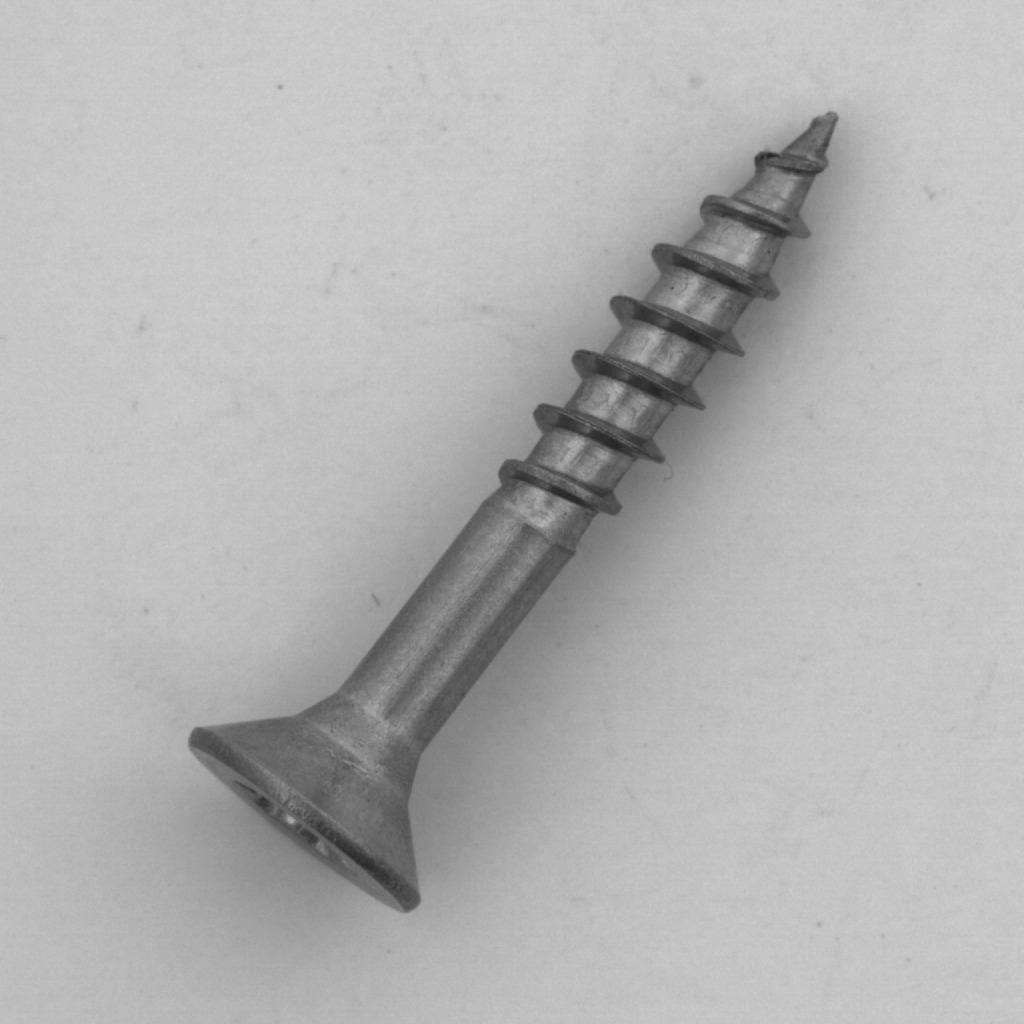good: (166, 83, 868, 928)
